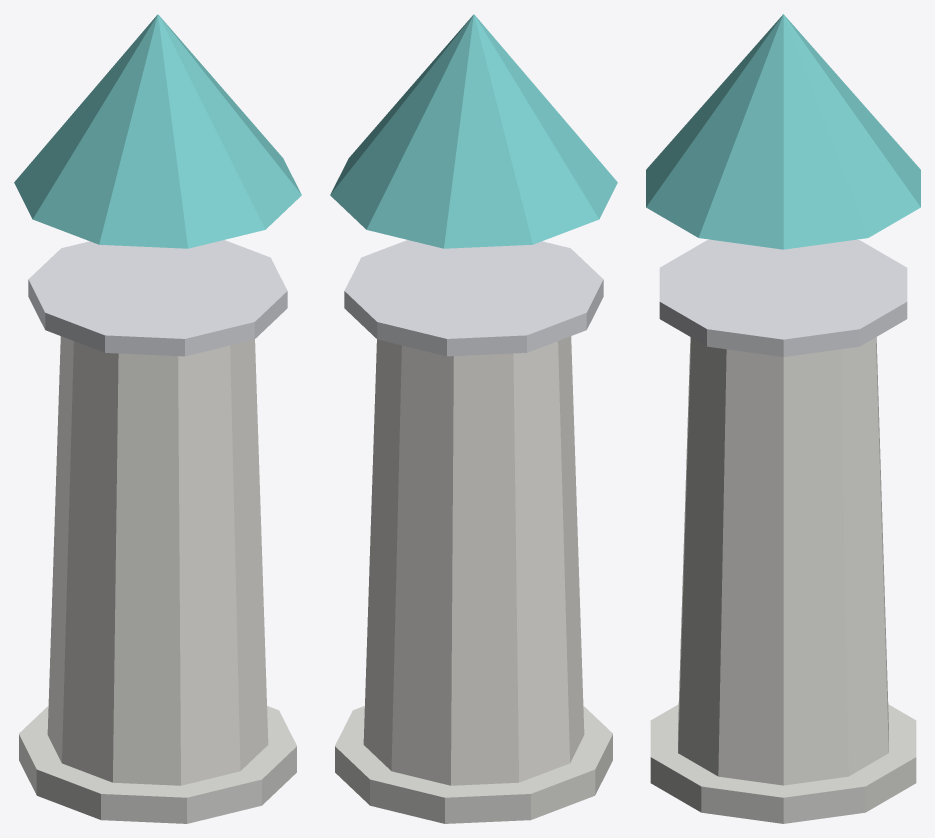
3 renders of one model, left to right at view 1: azimuth 30°, elevation 25°; view 2: azimuth 150°, elevation 25°; view 3: azimuth 270°, elevation 25°, orthographic.
Parts seen in each view (by area): view 1: body; view 2: body; view 3: body.
Part boxes in pixels (x1,y1,x2,y2): body: (14, 14, 301, 823); body: (330, 14, 617, 823); body: (646, 14, 920, 823).
Bounding box in the file's own units: 6 × 17.2 × 5.71.
